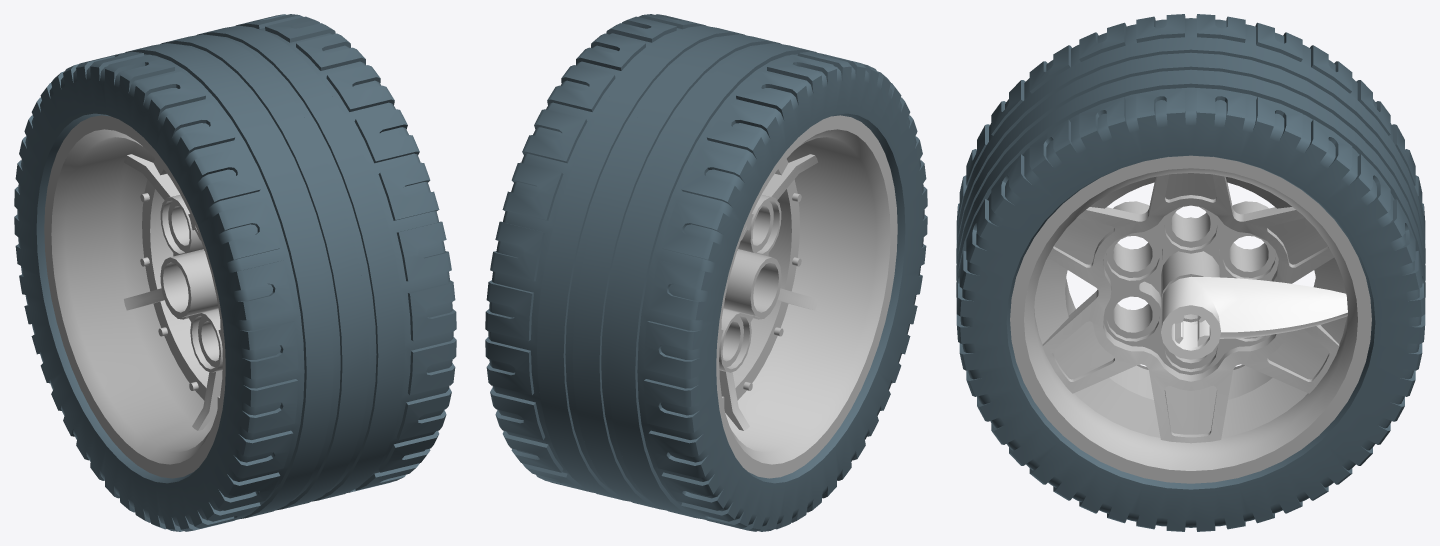
The model's file is modelo_base_diff_wheel_right_v2.dae.
The picture shows the model from 3 angles, left to right: view 1: azimuth 30°, elevation 25°; view 2: azimuth 150°, elevation 25°; view 3: azimuth 270°, elevation 25°; orthographic projection. The views are drawn at different scales.
Visible parts, largest first — view 1: Object, Object.001; view 2: Object, Object.001; view 3: Object, Object.001, Object.002.
Part boxes in pixels (x1,y1,x2,y2): Object: (14,14,456,531); Object.001: (44,115,225,478); Object: (485,14,927,531); Object.001: (716,115,897,478); Object: (956,14,1425,531); Object.001: (1010,155,1371,483); Object.002: (1161,276,1347,359).
Size of the model in its own units: 0.0308 by 0.056 by 0.056.
